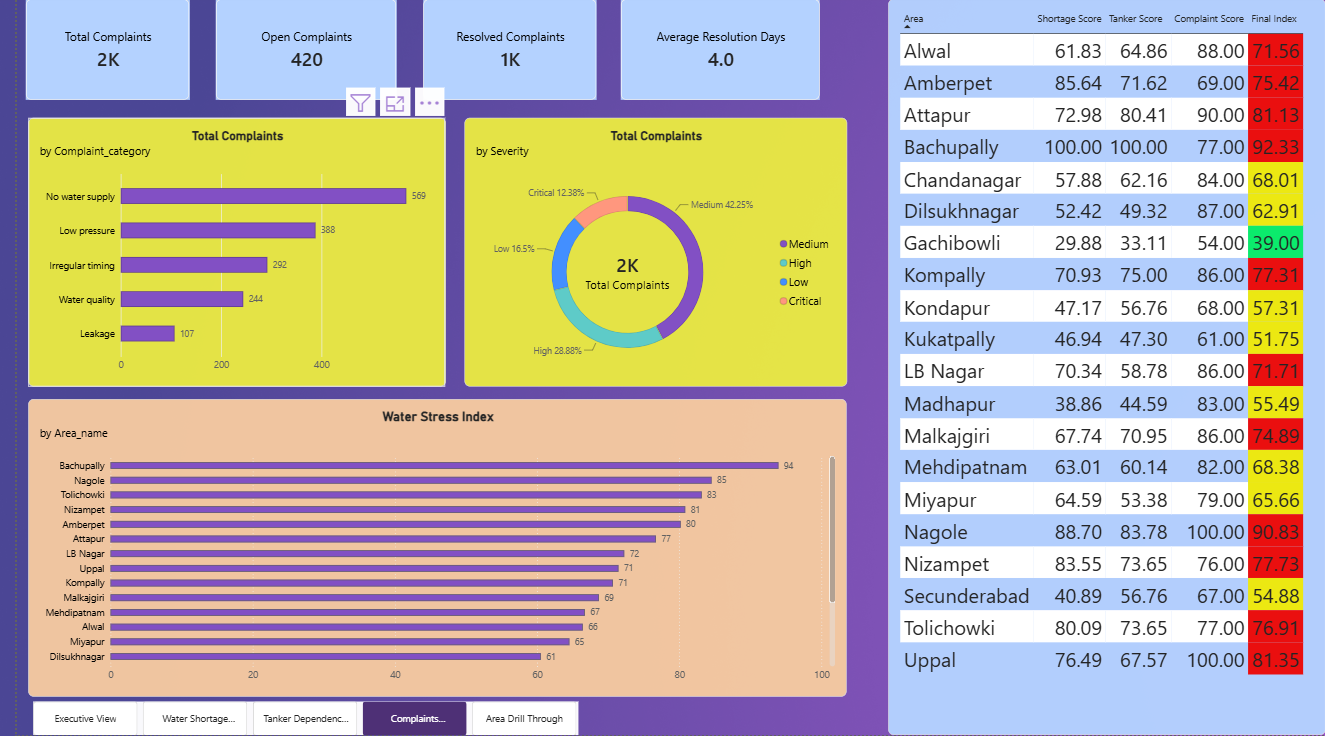

What the dashboard file says about the page in this screenshot:
{"tool":"powerbi","page":{"name":"Complaints Management & Risk Analysis","canvas":[1920,1080],"ordinal":3},"visuals":[{"type":"tableEx","fields":{"Values":["aqua_watch areas.Area_name","Date.Shortage Score Nome","Date.Tanker Score Norm","Date.Complaint Score Norm","Date.Fina Index"]},"box":[1279,0,641.4,1079.7],"z":0},{"type":"cardVisual","fields":{"Data":["aqua_watch complaints.Total Complaints"]},"box":[13.3,0,241,148],"z":1000},{"type":"cardVisual","fields":{"Data":["aqua_watch complaints.Open Complaints"]},"box":[292.2,0,265.7,148],"z":2000},{"type":"cardVisual","fields":{"Data":["aqua_watch complaints.Resolved Complaints"]},"box":[595.9,0,254.3,148],"z":3000},{"type":"cardVisual","fields":{"Data":["aqua_watch complaints.Average Resolution Days"]},"box":[886.2,0,292.2,148],"z":4000},{"type":"clusteredBarChart","fields":{"Category":["aqua_watch complaints.Complaint_category"],"Y":["aqua_watch complaints.Total Complaints"]},"box":[17.1,174.6,612.9,394.7],"z":5000},{"type":"donutChart","fields":{"Category":["aqua_watch complaints.Severity"],"Y":["aqua_watch complaints.Total Complaints"]},"box":[656.6,174.6,561.7,394.7],"z":6000},{"type":"clusteredBarChart","fields":{"Category":["aqua_watch areas.Area_name"],"Y":["aqua_watch supply_daily.Water Stress Index"]},"box":[17.1,586.4,1201.2,436.5],"z":7000},{"type":"pageNavigator","box":[24.7,1030.4,800,50],"z":8000}]}

Visuals, with their boxes in screenshot pixels (x1, y1, x2, y2), scaled from the page's 1920x1080 canvas onto the 1325x736 screenshot:
tableEx - aqua_watch areas.Area_name x Date.Shortage Score Nome: Rect(883, 0, 1324, 735)
cardVisual - aqua_watch complaints.Total Complaints: Rect(9, 0, 175, 101)
cardVisual - aqua_watch complaints.Open Complaints: Rect(202, 0, 385, 101)
cardVisual - aqua_watch complaints.Resolved Complaints: Rect(411, 0, 587, 101)
cardVisual - aqua_watch complaints.Average Resolution Days: Rect(612, 0, 813, 101)
clusteredBarChart - aqua_watch complaints.Complaint_category x aqua_watch complaints.Total Complaints: Rect(12, 119, 435, 388)
donutChart - aqua_watch complaints.Severity x aqua_watch complaints.Total Complaints: Rect(453, 119, 841, 388)
clusteredBarChart - aqua_watch areas.Area_name x aqua_watch supply_daily.Water Stress Index: Rect(12, 400, 841, 697)
pageNavigator: Rect(17, 702, 569, 735)
